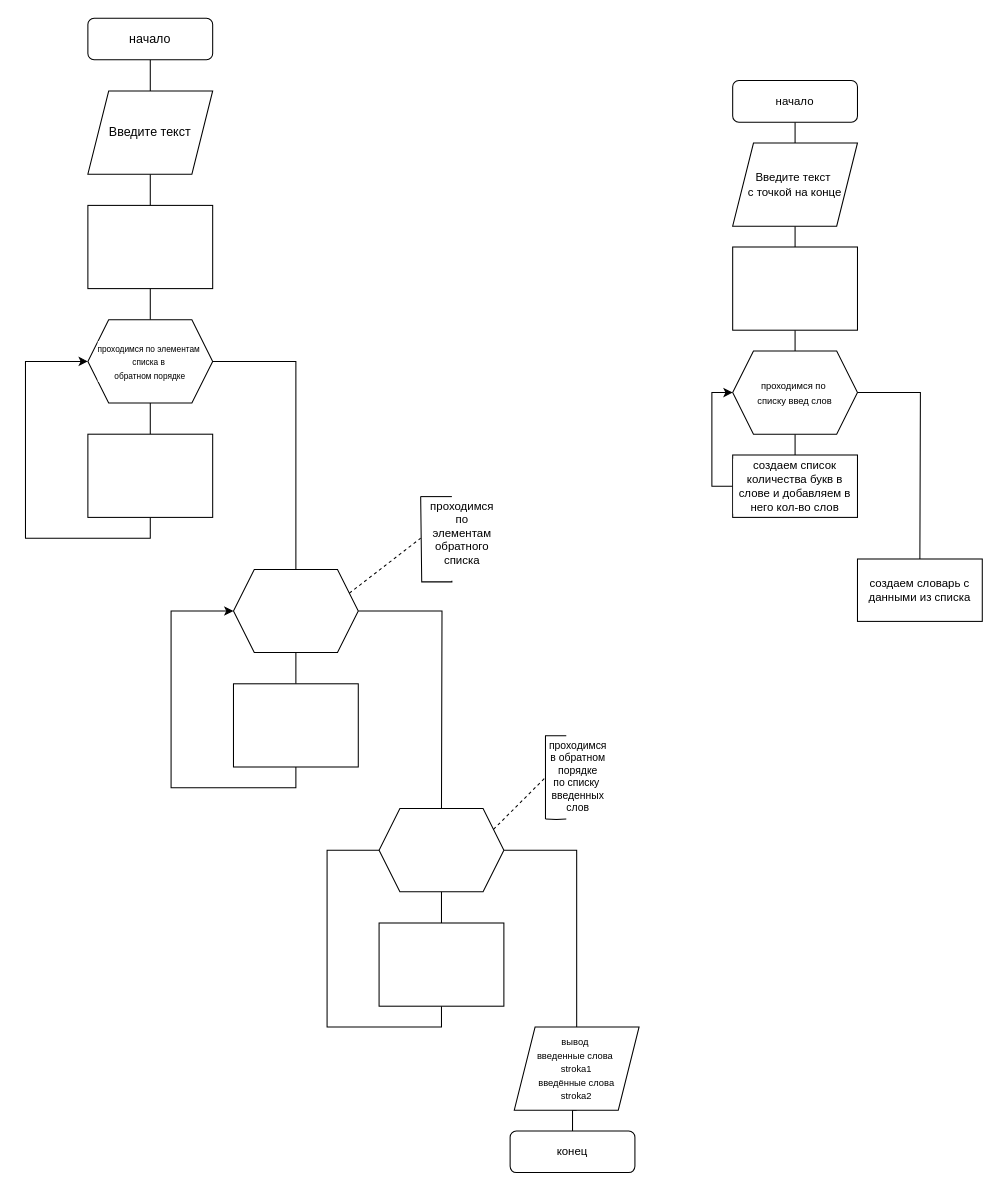
Some shapes in this 1000 by 1191 pixel diagram are drawn without their labels. The centre of each missing label's shape, as x and y in pixels:
добавляем к переменной stroka2 значения из введеных слов: the point at 441,964
добавляем элемент в список перевёрнутых слов: the point at 150,475
преобразуем каждое слово из списка в строчный тип и добавим в переменную stroka1: the point at 295,725
создаем 2 списка и 2 переменные строки: the point at 150,246
создаём список из введеных слов: the point at 794,288
